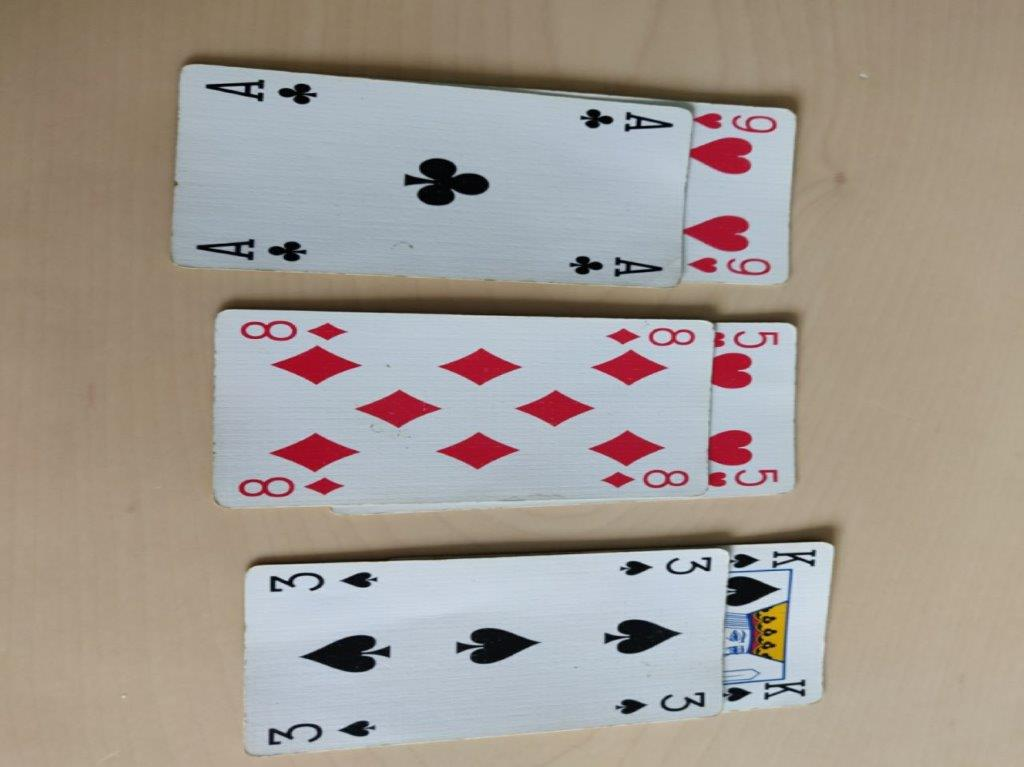3S: (245, 553, 719, 745)
5H: (708, 320, 797, 496)
8D: (213, 309, 705, 506)
9H: (689, 94, 808, 297)
AC: (171, 59, 681, 295)
KS: (721, 543, 829, 713)
